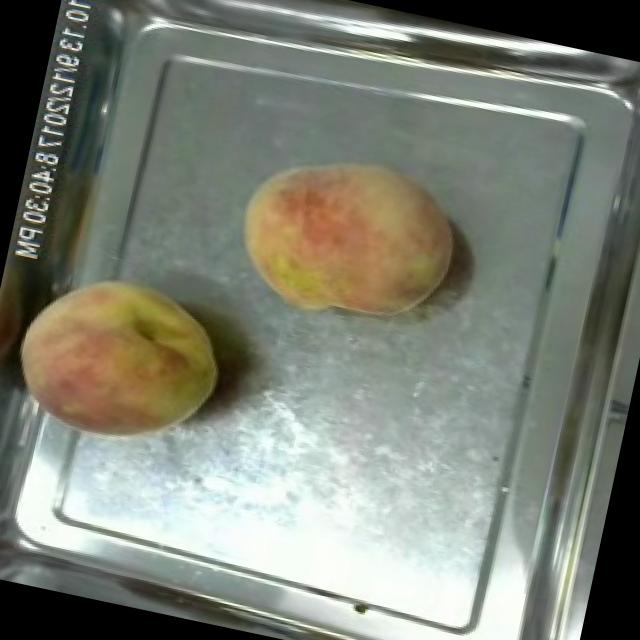Fruit: (213, 127, 472, 343), (0, 246, 245, 468)
